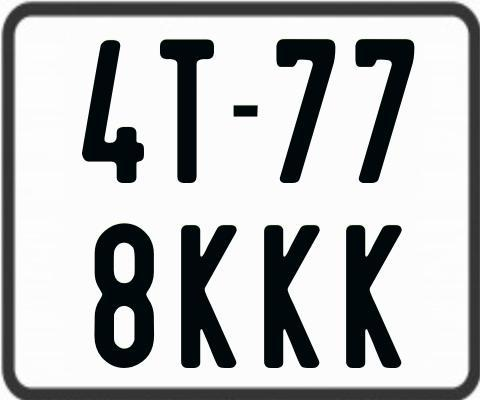4: (80, 40, 145, 183)
7: (354, 38, 415, 188), (276, 36, 335, 184)
8: (91, 221, 157, 368)
K: (181, 225, 240, 374), (262, 225, 320, 373), (346, 225, 404, 368)
T: (157, 36, 212, 181)
